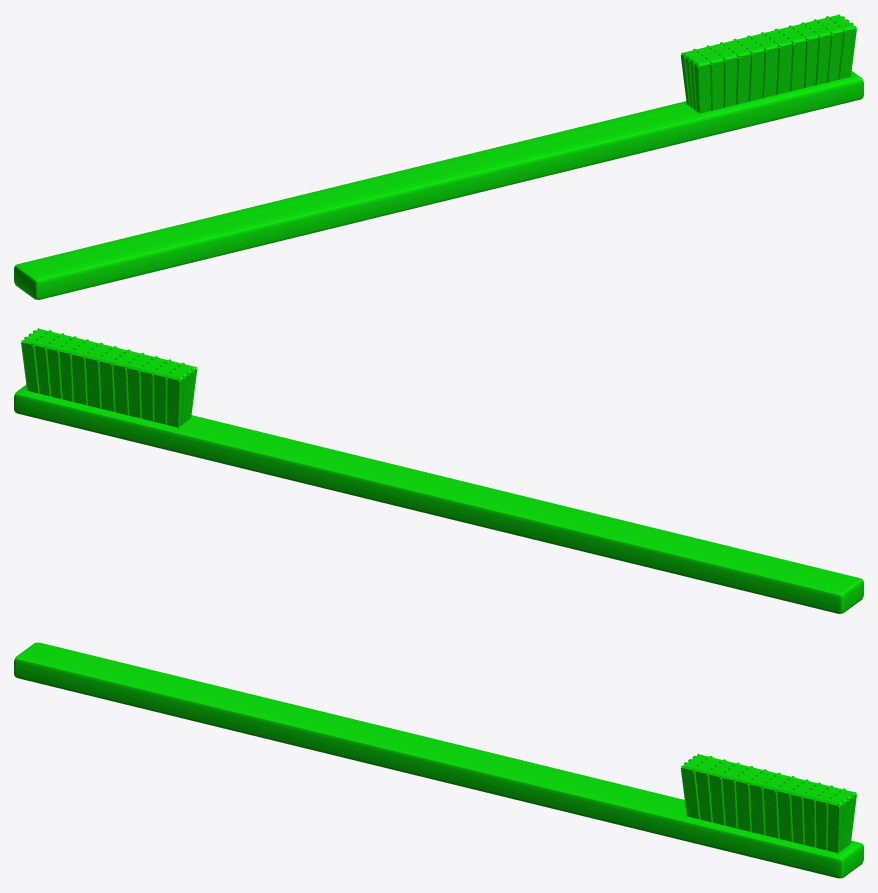
Rendered from Tipo2_Mesh.fbx.
The picture shows the model from 3 angles, top to bottom: view 1: azimuth 30°, elevation 25°; view 2: azimuth 150°, elevation 25°; view 3: azimuth 330°, elevation 25°; orthographic projection.
Visible parts, largest first — view 1: Escova_Tipo2_1; view 2: Escova_Tipo2_1; view 3: Escova_Tipo2_1.
Boxes of the visible parts, left/top/right/bottom form: Escova_Tipo2_1: left=14, top=14, right=863, bottom=299; Escova_Tipo2_1: left=14, top=328, right=863, bottom=613; Escova_Tipo2_1: left=14, top=642, right=863, bottom=878.
Size of the model in its own units: 2 by 0.171 by 0.1.
